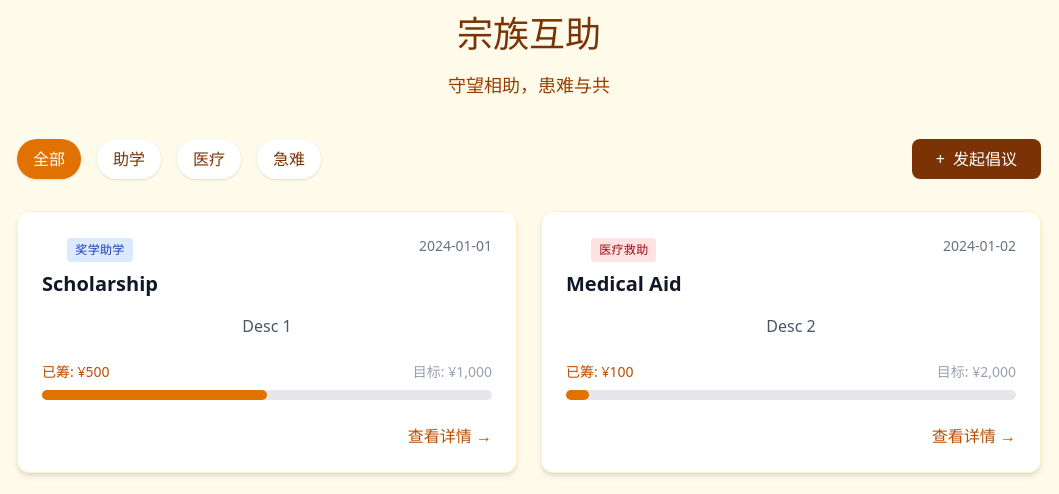
Test: MutualAid.vue › filters initiatives
This screenshot has width=1059, height=494.
Click the button "助学" at (129, 159), box [97,139,161,179]
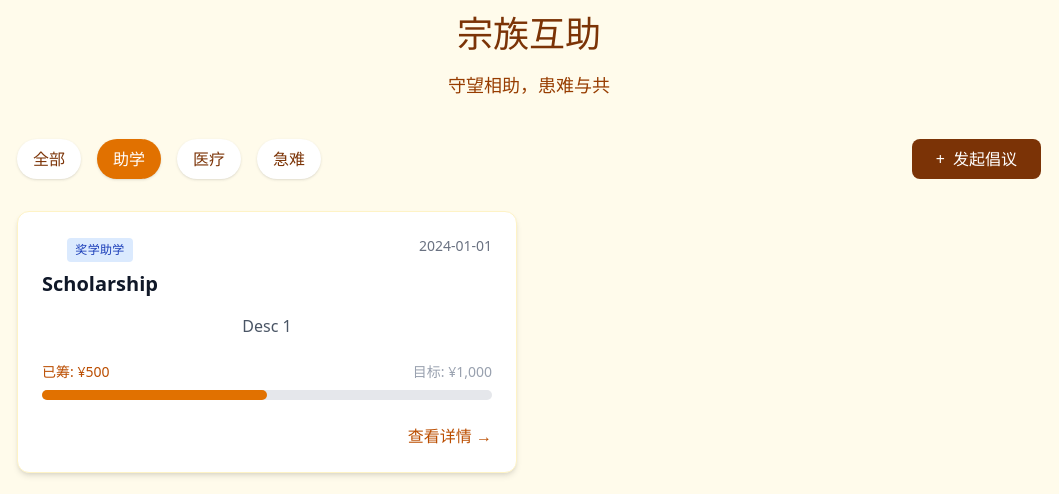
Expected: the text "Scholarship" is shown, [42,270,158,298]
Now the text "Medical Aid" is gone
